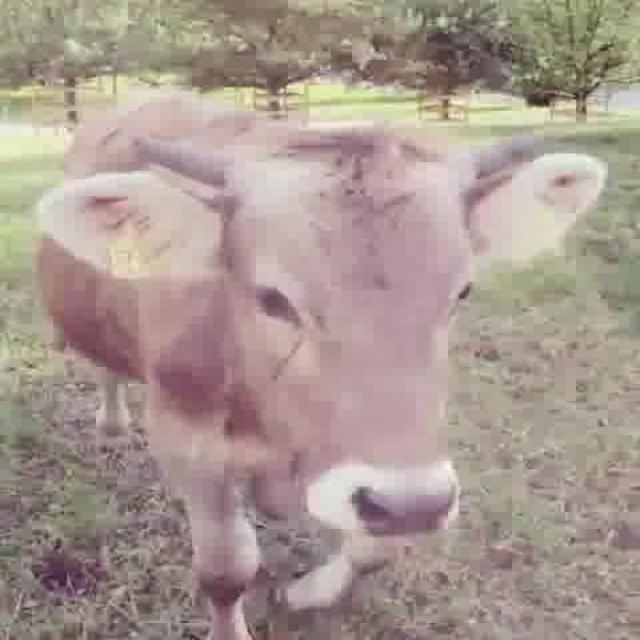cowFace: (24, 112, 615, 551)
